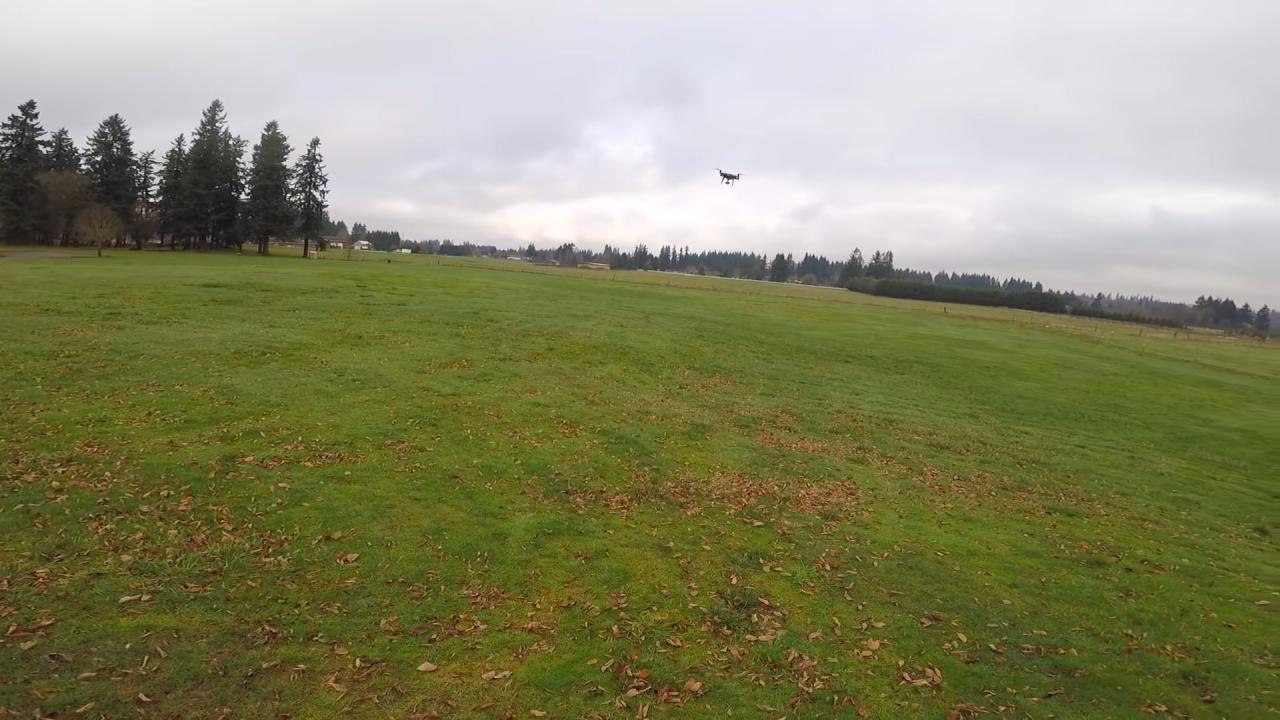Drone: (711, 161, 747, 193)
